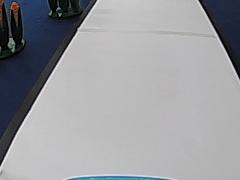corn: (0, 1, 29, 57), (46, 0, 81, 19)
